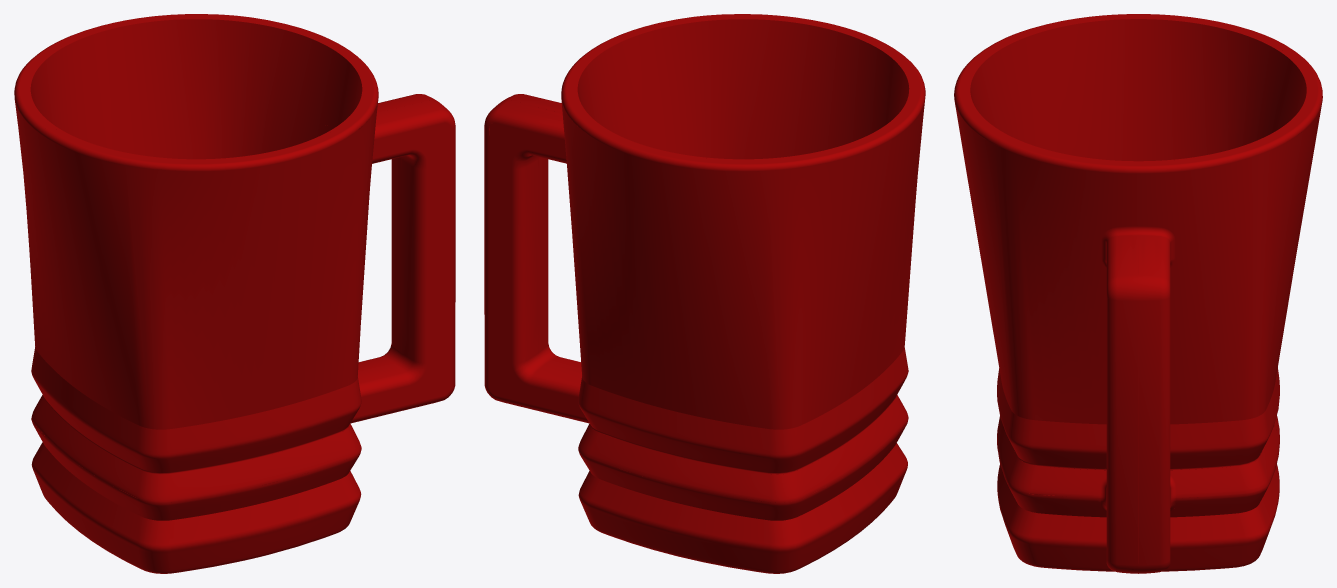
Rendered from CM-MUG043.glb.
3 views of the same model, side by side, from view 1: azimuth 30°, elevation 25°; view 2: azimuth 150°, elevation 25°; view 3: azimuth 270°, elevation 25° (orthographic).
Bounding box in the file's own units: 0.0744 × 0.074 × 0.0576.
